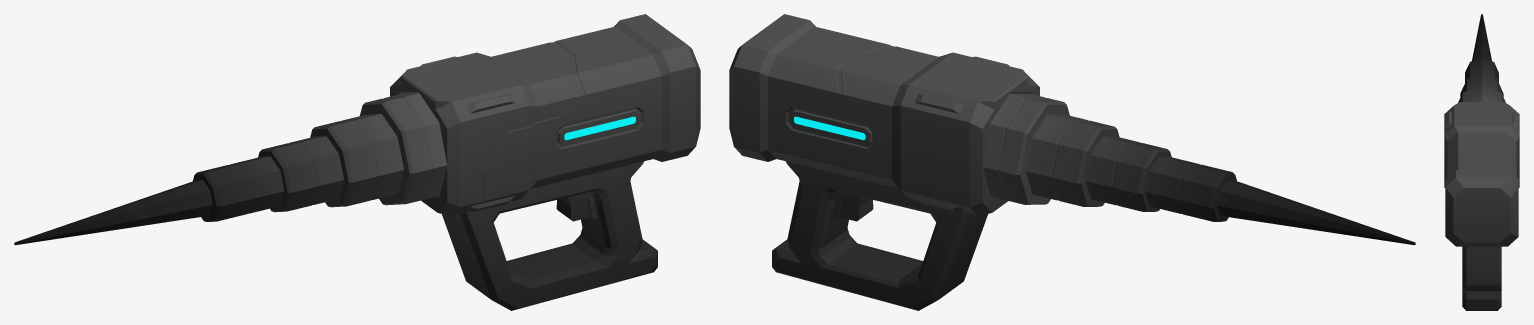
File: Item_Drill.glb
3 renders of one model, left to right at view 1: azimuth 30°, elevation 25°; view 2: azimuth 150°, elevation 25°; view 3: azimuth 270°, elevation 25°, orthographic. The views are drawn at different scales.
Parts seen in each view (by area): view 1: Cube.018, Cube.057, Plane.239; view 2: Cube.018, Cube.057, Plane.239; view 3: Cube.018, Cube.057.
Part boxes in pixels (left/top/right/bottom): Cube.018: left=390, top=14, right=700, bottom=310; Cube.057: left=14, top=93, right=447, bottom=245; Plane.239: left=556, top=193, right=590, bottom=221; Cube.018: left=729, top=14, right=1039, bottom=310; Cube.057: left=982, top=93, right=1415, bottom=245; Plane.239: left=839, top=193, right=873, bottom=221; Cube.018: left=1444, top=102, right=1519, bottom=310; Cube.057: left=1458, top=14, right=1505, bottom=102.
Bounding box in the file's own units: 2.47 × 0.8309 × 0.3925.
2 materials, 1 textured.
